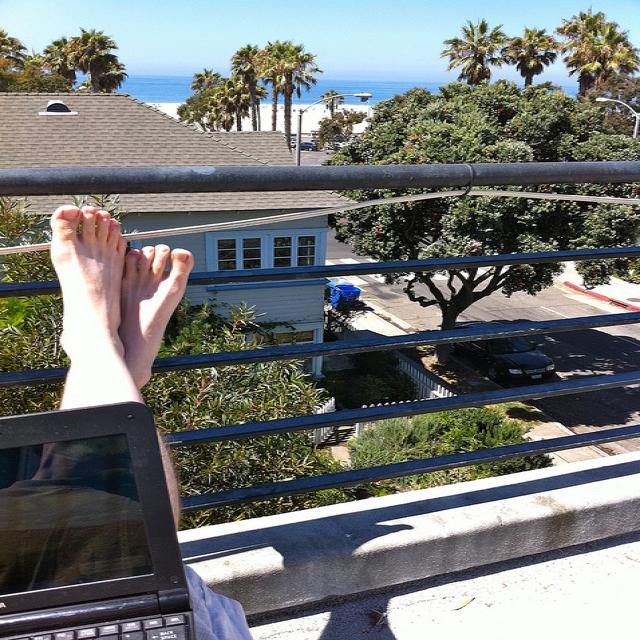Vehicle: (430, 320, 558, 386)
